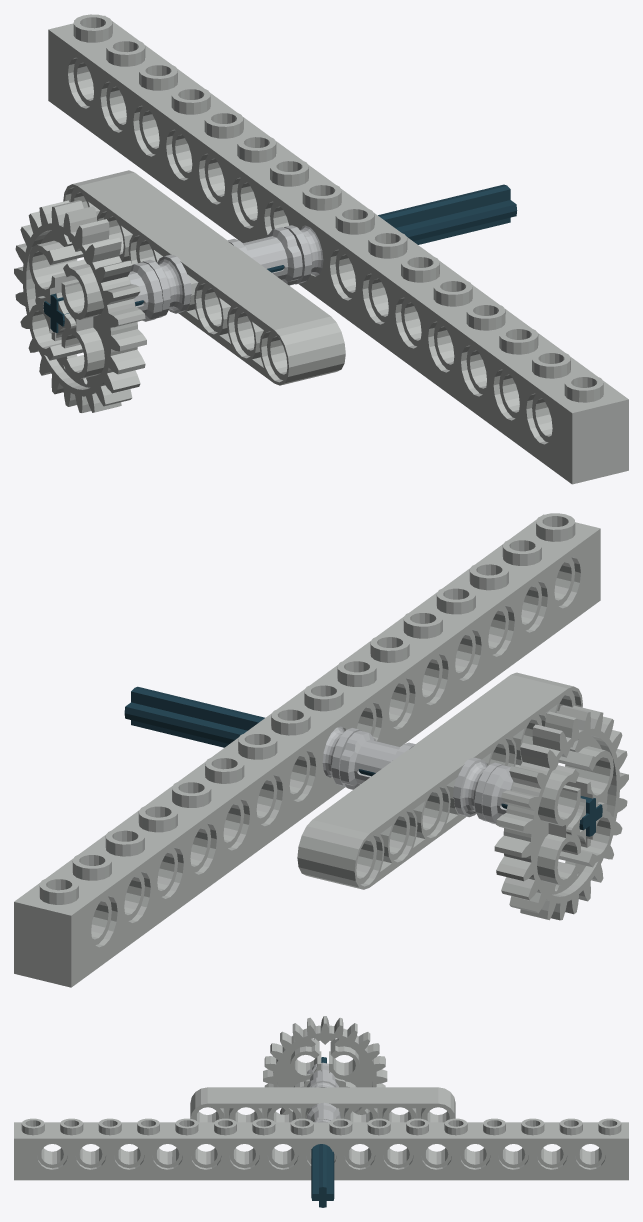
3 views of the same model, one above another, from view 1: azimuth 30°, elevation 25°; view 2: azimuth 150°, elevation 25°; view 3: azimuth 270°, elevation 25° (orthographic). The views are drawn at different scales.
Parts seen in each view (by area): view 1: Piece003, Piece004, Piece000, Piece005, Piece002, Piece006, Piece001, Piece007; view 2: Piece003, Piece004, Piece000, Piece005, Piece002, Piece006, Piece001, Piece007; view 3: Piece003, Piece004, Piece000, Piece005, Piece002, Piece001.
Part boxes in pixels (box(x1,y1,x2,y2)): Piece003: box(48, 14, 628, 484); Piece004: box(63, 170, 345, 385); Piece000: box(14, 200, 146, 412); Piece005: box(43, 184, 517, 332); Piece002: box(228, 227, 302, 285); Piece006: box(141, 254, 191, 317); Piece001: box(129, 262, 162, 321); Piece007: box(284, 225, 323, 284); Piece003: box(14, 513, 600, 987); Piece004: box(297, 672, 582, 889); Piece000: box(494, 705, 628, 920); Piece005: box(124, 686, 602, 836); Piece002: box(339, 730, 415, 789); Piece006: box(453, 757, 503, 821); Piece001: box(482, 765, 512, 824); Piece007: box(322, 726, 362, 786); Piece003: box(14, 1118, 628, 1180); Piece004: box(190, 1087, 455, 1122); Piece000: box(263, 1016, 387, 1114); Piece005: box(311, 1057, 334, 1207); Piece002: box(306, 1102, 340, 1121); Piece001: box(307, 1062, 338, 1087).
Bounding box in the file's own units: 160 × 64.79 × 320.
